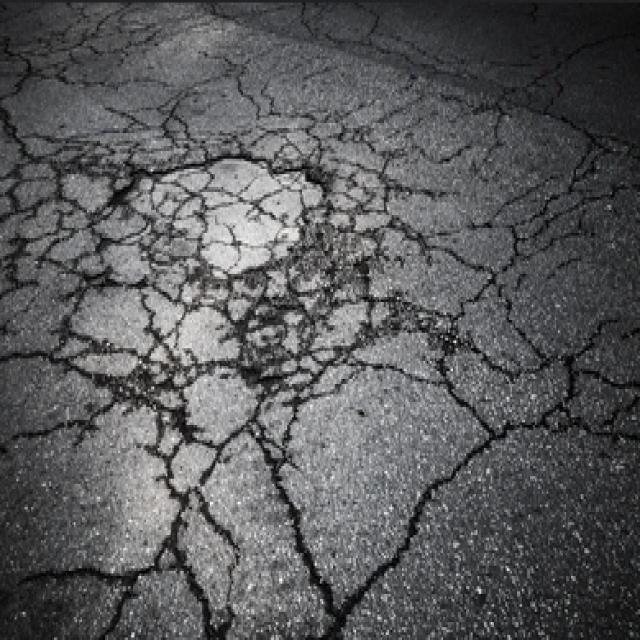Drain Hole: (8, 86, 640, 584)
